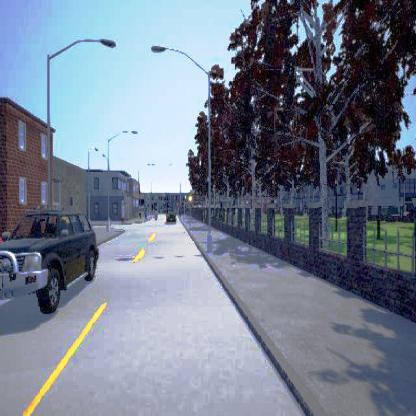vehicle: (0, 205, 98, 313), (164, 208, 176, 223)
